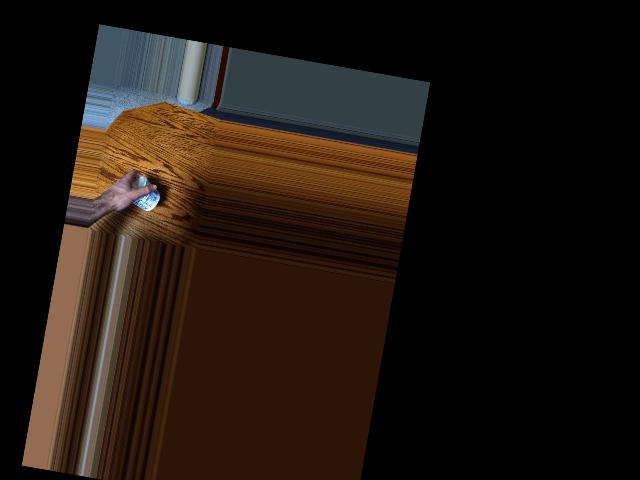cotage: (125, 173, 164, 215)
